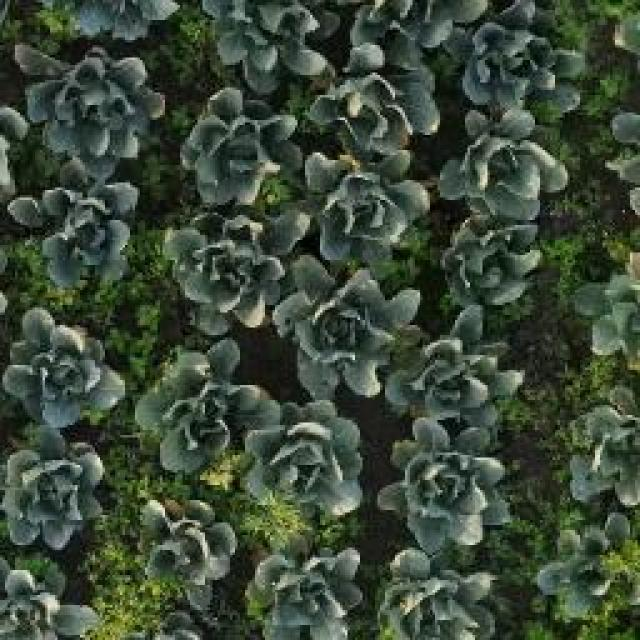cabbage: (32, 49, 155, 173), (177, 92, 307, 208), (174, 218, 300, 336), (132, 346, 255, 466), (385, 418, 497, 538), (285, 265, 397, 383), (450, 100, 560, 218), (243, 401, 359, 511), (0, 310, 108, 428), (24, 184, 145, 277), (312, 162, 421, 262), (466, 5, 580, 96), (324, 66, 439, 154), (218, 0, 331, 88), (2, 438, 99, 540), (140, 498, 233, 592), (380, 555, 482, 640), (253, 556, 355, 640), (545, 526, 640, 615), (580, 415, 640, 487)
